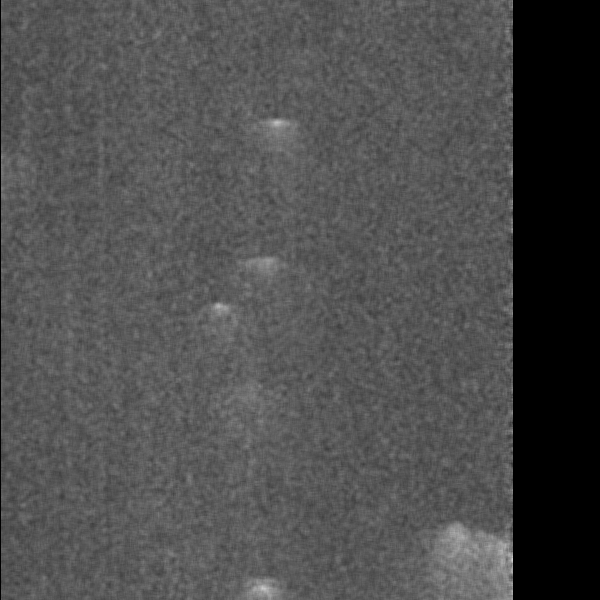spark: (432, 517, 488, 595), (240, 248, 285, 302), (256, 114, 296, 148), (200, 297, 235, 329), (243, 574, 282, 600)
